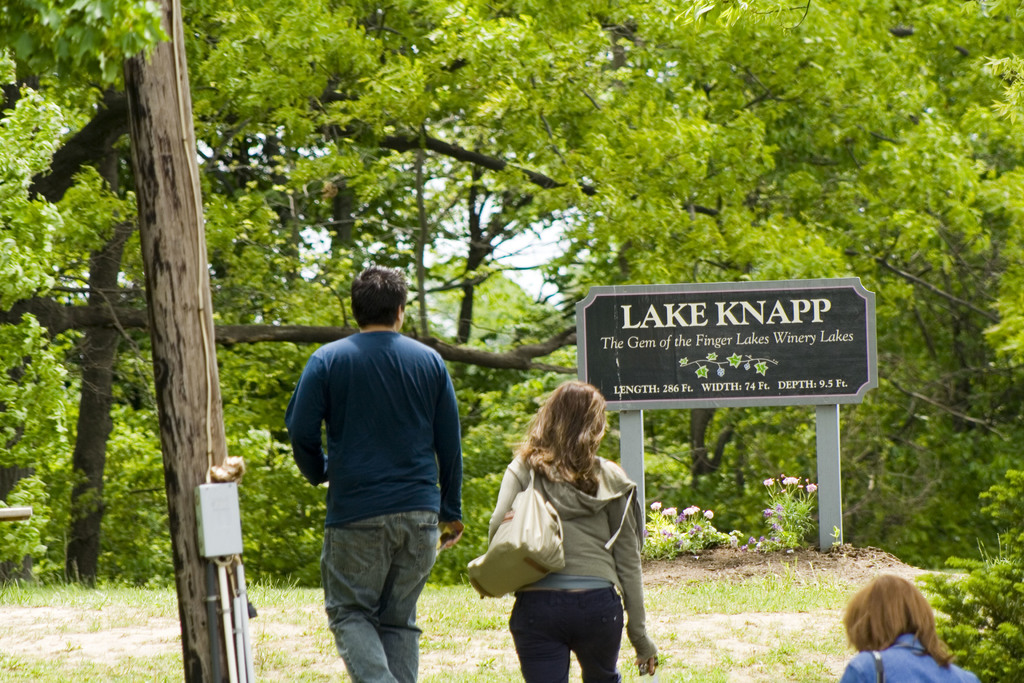Tree: (554, 77, 839, 491), (298, 12, 641, 349), (819, 115, 1023, 517), (183, 0, 423, 316), (0, 56, 133, 577), (35, 13, 156, 584), (630, 0, 944, 213), (875, 0, 1023, 360), (3, 0, 150, 155)
